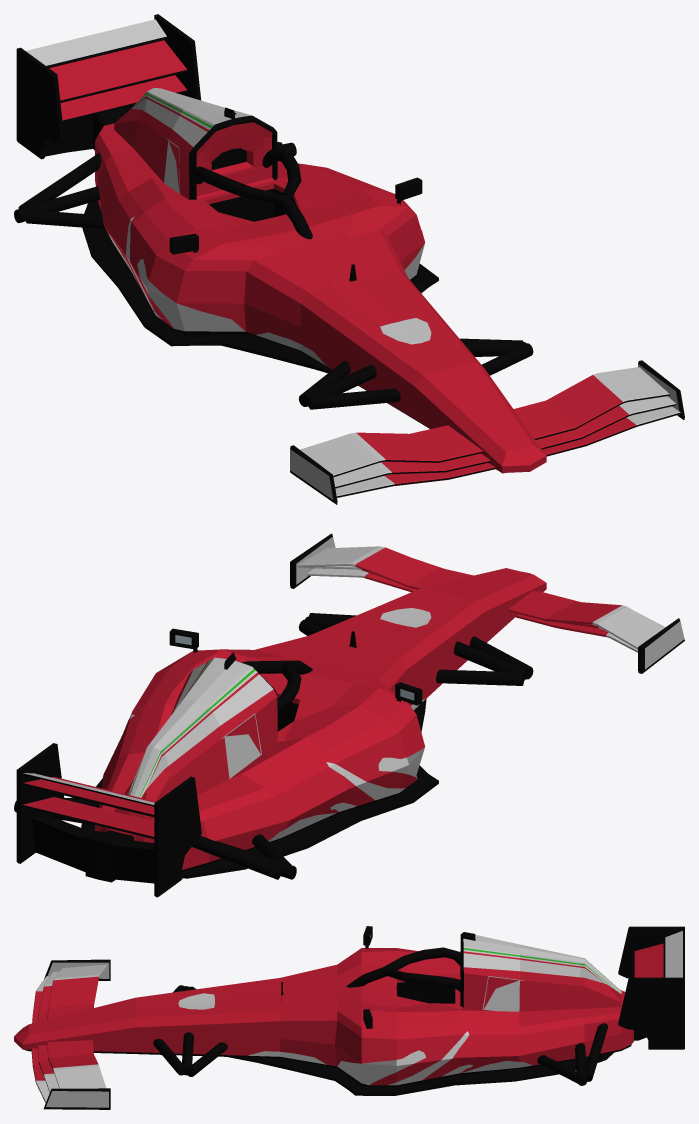
3 views of the same model, one above another, from view 1: azimuth 30°, elevation 25°; view 2: azimuth 150°, elevation 25°; view 3: azimuth 270°, elevation 25° (orthographic). The views are drawn at different scales.
Parts seen in each view (by area): view 1: Car; view 2: Car; view 3: Car.
Boxes of the visible parts, x1,y1,x2,y2 form: Car: (14,14,684,504); Car: (14,533,684,897); Car: (14,926,684,1109).
Size of the model in its own units: 1.45 by 0.5894 by 3.14.
